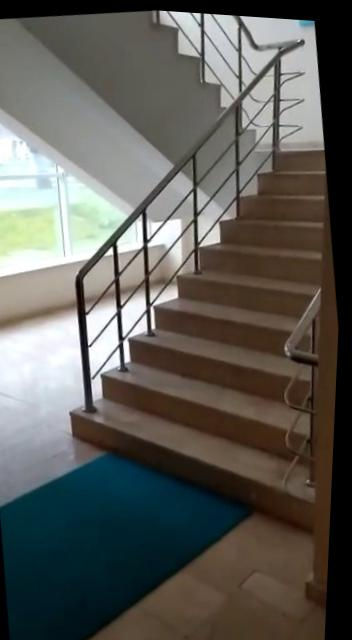Bench: (146, 69, 322, 508)
